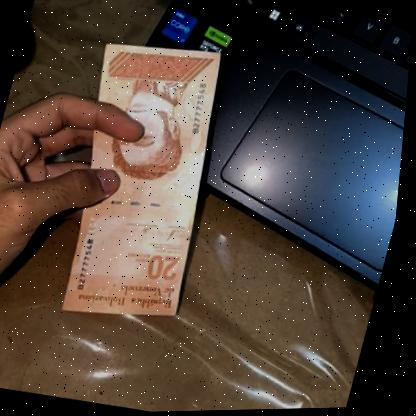twenty-front-vef: (40, 32, 248, 331)
